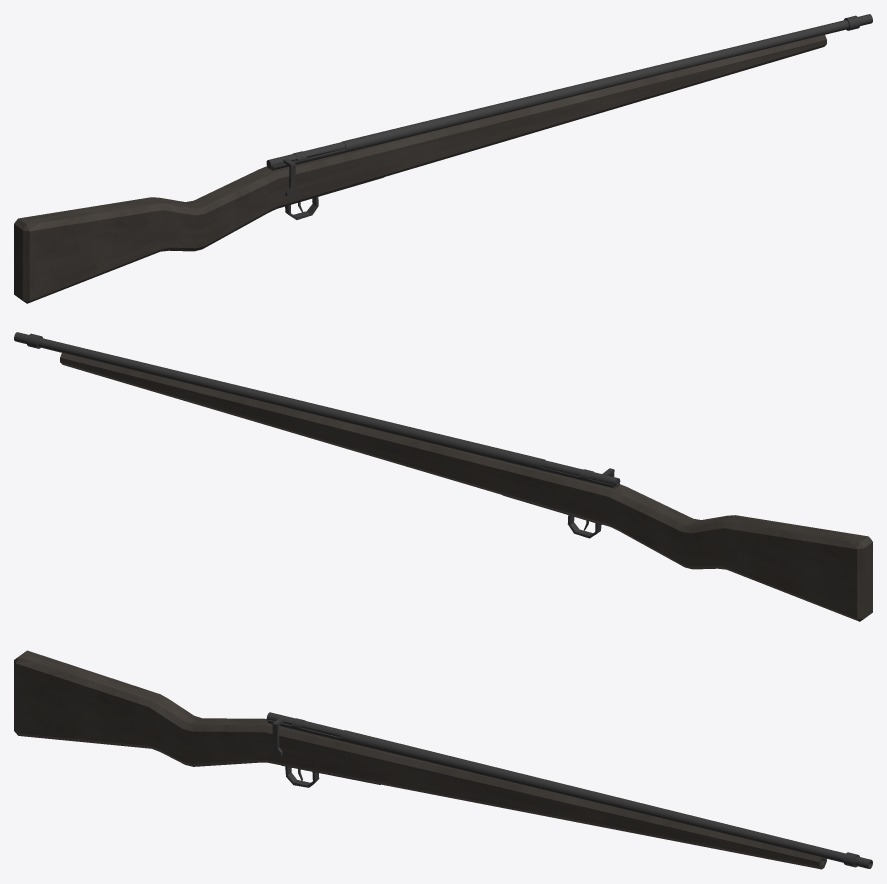
The model's file is gun.FBX.
The picture shows the model from 3 angles, top to bottom: view 1: azimuth 30°, elevation 25°; view 2: azimuth 150°, elevation 25°; view 3: azimuth 330°, elevation 25°; orthographic projection.
Visible parts, largest first — view 1: body, piippu, bolt; view 2: body, piippu, bolt; view 3: body, piippu, bolt.
Boxes of the visible parts, box(x1,y1,x2,y2) form: body: box(14, 34, 826, 303); piippu: box(270, 14, 872, 212); bolt: box(266, 142, 345, 198); body: box(60, 352, 872, 621); piippu: box(14, 332, 616, 530); bolt: box(541, 460, 620, 487); body: box(14, 650, 826, 869); piippu: box(268, 718, 872, 868); bolt: box(266, 712, 343, 758).
Size of the model in its own units: 5.76 by 0.5219 by 0.1906.
2 materials, 1 textured.
